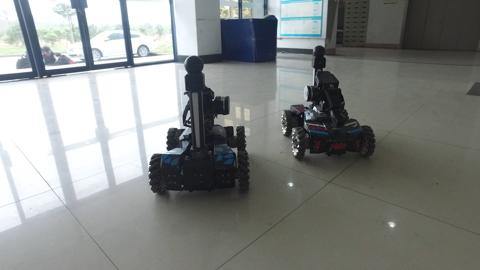car: (66, 22, 168, 61)
chariot: (147, 58, 260, 199), (277, 39, 379, 163)
